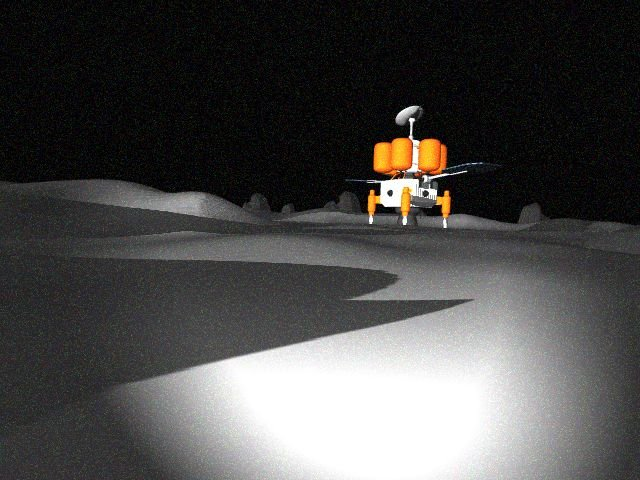homebase: (327, 104, 500, 232)
